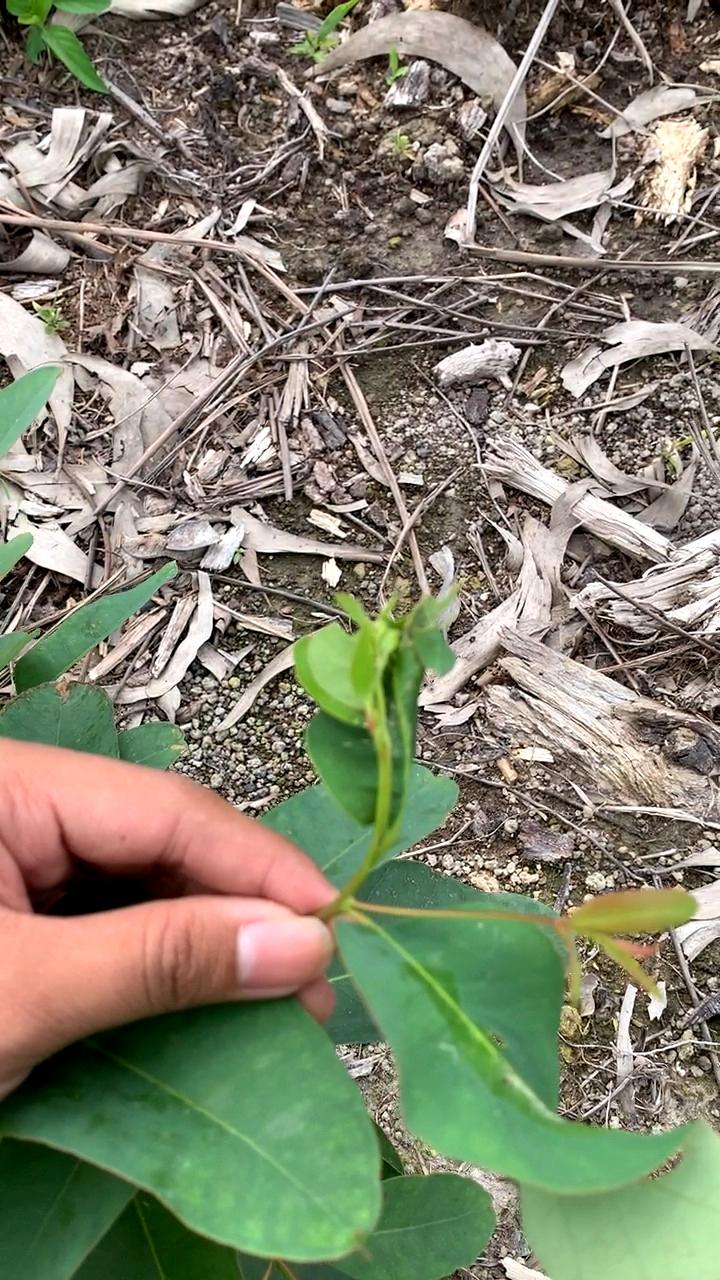Leaf Roller - Leaf: (293, 573, 465, 875)
